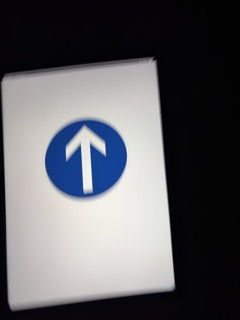GO FORWARD: (44, 118, 128, 200)
